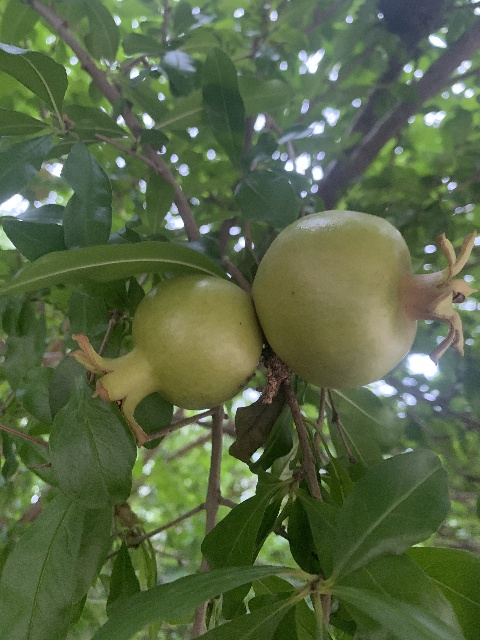mid-growth: (253, 209, 480, 390), (66, 273, 263, 446)
